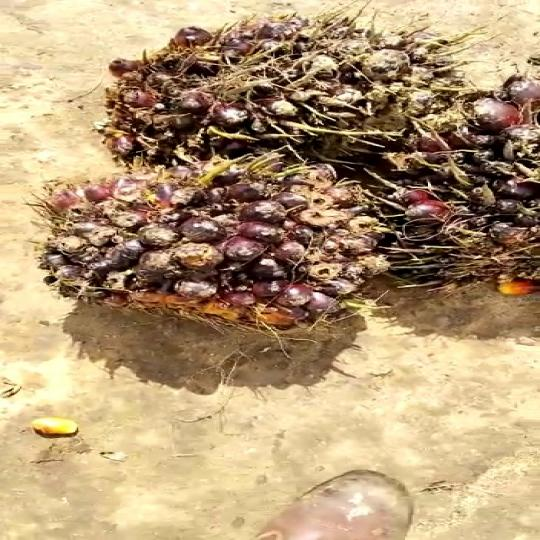kurang masak: (38, 154, 401, 339), (90, 11, 483, 157)
